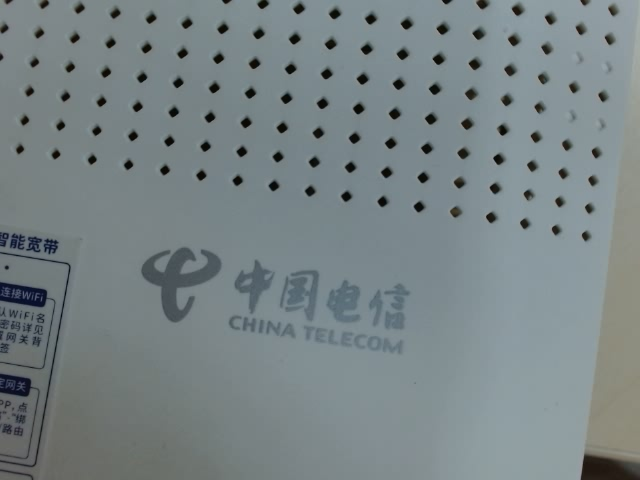AB_ChinaTelecom: (114, 220, 428, 373)
